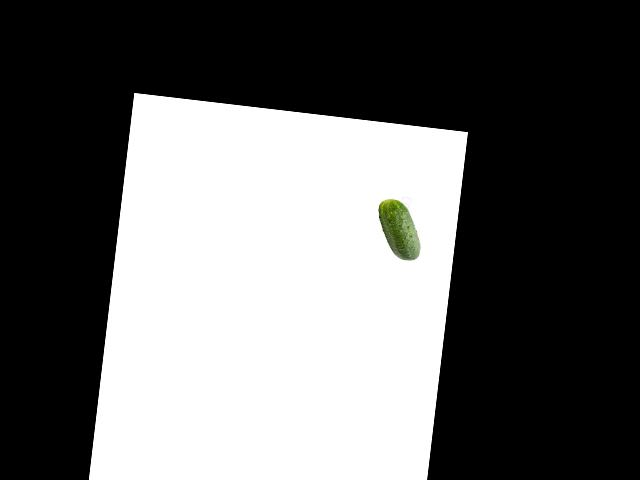cucumber: (373, 197, 425, 262)
